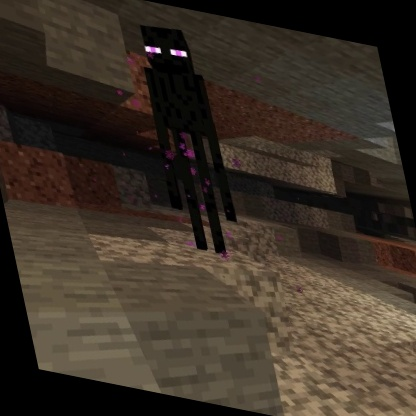enderman: (127, 16, 252, 264)
